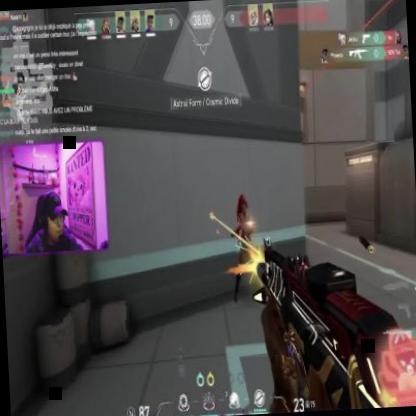enemy: (228, 192, 269, 302)
enemy_head: (238, 196, 248, 216)
